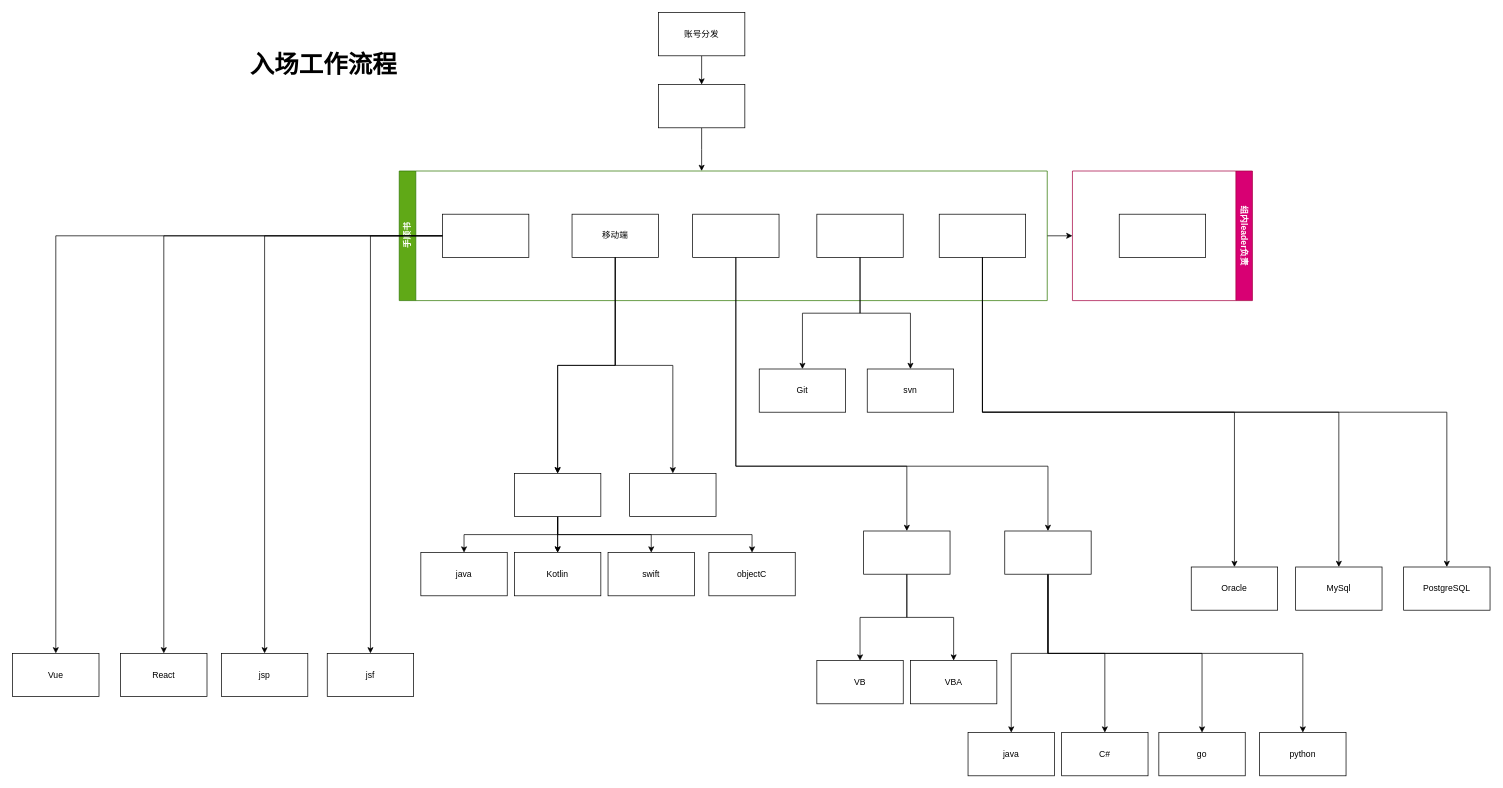
Image size: 1503x788. Some labels were removed from this diagram. The shapes that lost their labels are listed below. From the top down, each one's centre as x and y in pixels, then its label:
At (701,106): "环境配置".
At (485,235): "前端".
At (735,235): "后端".
At (859,235): "VCS".
At (982,235): "数据库".
At (1162,235): "WBS".
At (557,495): "Native".
At (672,495): "Hybrid".
At (906,552): "winForm".
At (1047,552): "webForm".
